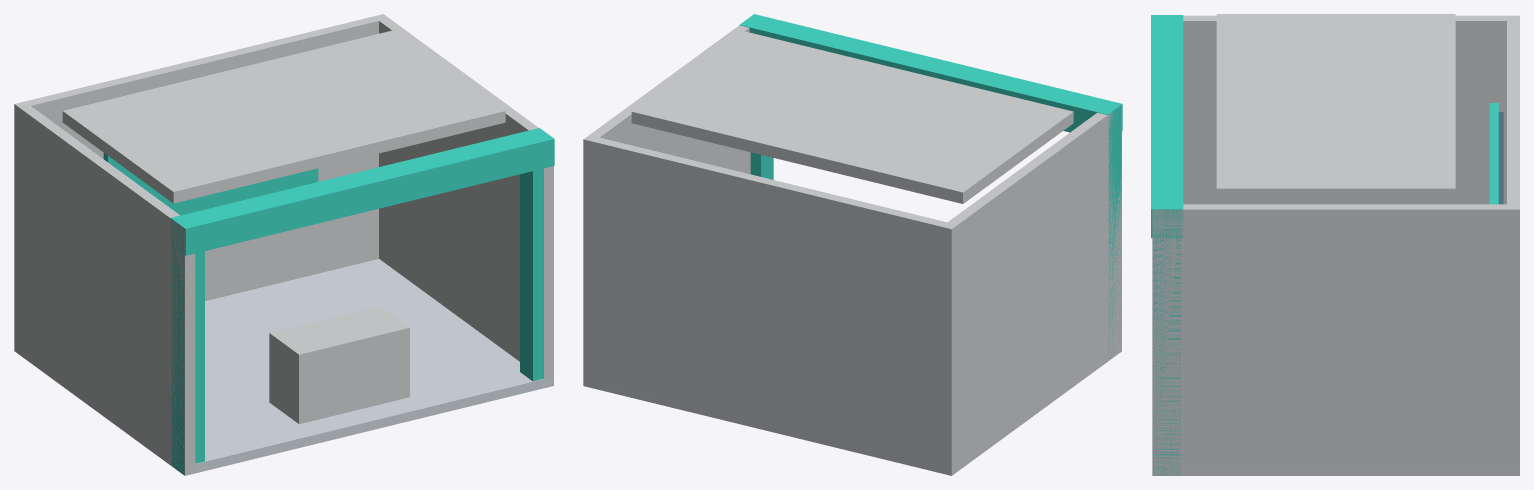
3 views of the same model, side by side, from view 1: azimuth 30°, elevation 25°; view 2: azimuth 150°, elevation 25°; view 3: azimuth 270°, elevation 25° (orthographic). The views are drawn at different scales.
Visible parts, largest first — view 1: Exhibition Booth Concept; view 2: Exhibition Booth Concept; view 3: Exhibition Booth Concept.
Part boxes in pixels (<box>): Exhibition Booth Concept: <box>14,14,554,475</box>; Exhibition Booth Concept: <box>583,14,1122,475</box>; Exhibition Booth Concept: <box>1151,14,1519,475</box>.
Size of the model in its own units: 5 by 3.34 by 4.02.
